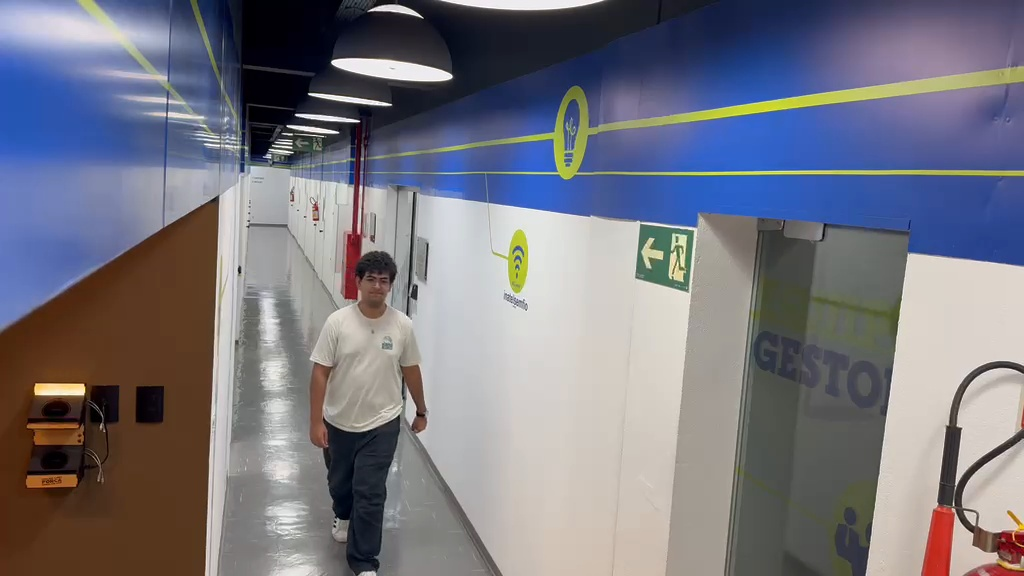person: (308, 249, 429, 572)
